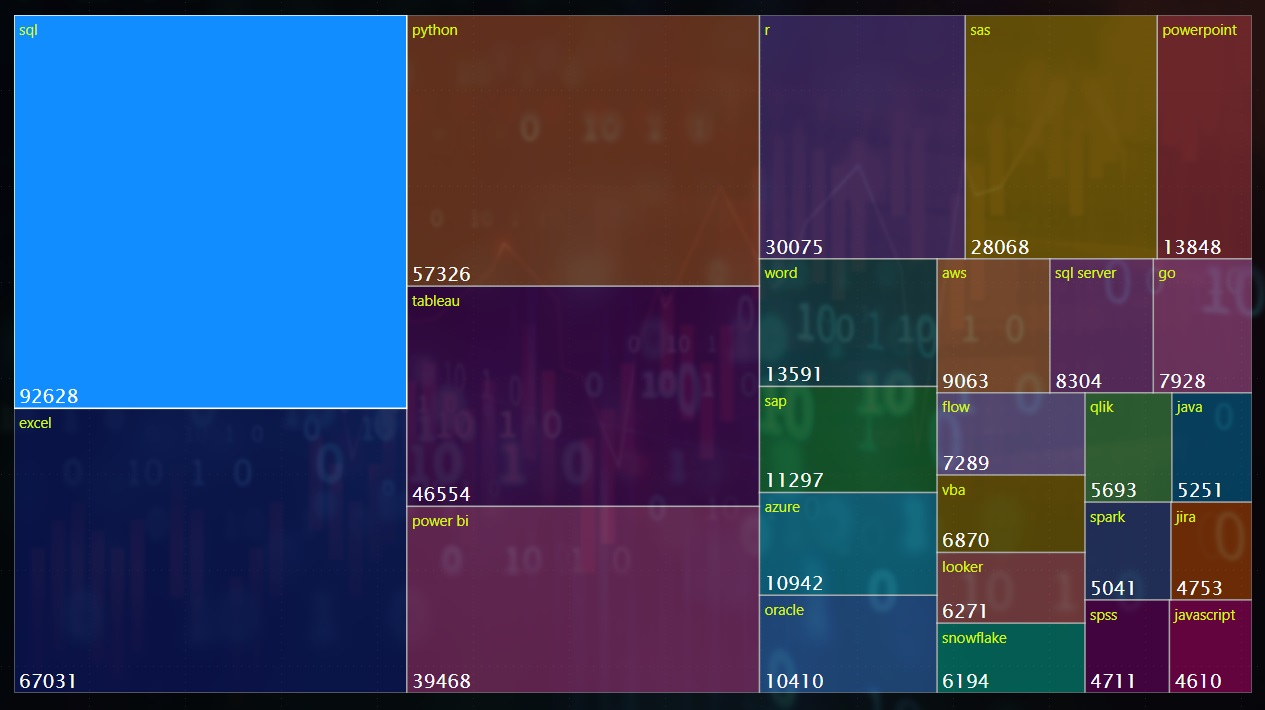

This screenshot's page, from the dashboard's own definition file:
{"tool":"powerbi","page":{"name":"Q3 - In-Demand Skills for Data Analytics","canvas":[1280,720],"ordinal":2},"visuals":[{"type":"treemap","fields":{"Group":["3_top_demanded_skills (2).skill_name"],"Values":["Sum(3_top_demanded_skills (2).demand_count)"]},"box":[192,112,1072,592],"z":0},{"type":"textbox","box":[168,16,1016,80],"z":1000},{"type":"actionButton","box":[0,120,168,40],"z":1001},{"type":"actionButton","box":[0,176,168,40],"z":1002},{"type":"actionButton","box":[0,224,168,40],"z":1003},{"type":"actionButton","box":[0,280,168,40],"z":1004},{"type":"actionButton","box":[0,336,168,40],"z":1005},{"type":"actionButton","box":[16,16,48,40],"z":1006},{"type":"actionButton","box":[72,40,40,32],"z":1007}]}

Visuals, with their boxes in screenshot pixels (x1, y1, x2, y2), scaled from the page's 1280x720 canvas onto the 1265x710 screenshot:
treemap - 3_top_demanded_skills (2).skill_name x Sum(3_top_demanded_skills (2).demand_count): [x1=190, y1=110, x2=1249, y2=694]
textbox: [x1=166, y1=16, x2=1170, y2=95]
actionButton: [x1=0, y1=118, x2=166, y2=158]
actionButton: [x1=0, y1=174, x2=166, y2=213]
actionButton: [x1=0, y1=221, x2=166, y2=260]
actionButton: [x1=0, y1=276, x2=166, y2=316]
actionButton: [x1=0, y1=331, x2=166, y2=371]
actionButton: [x1=16, y1=16, x2=63, y2=55]
actionButton: [x1=71, y1=39, x2=111, y2=71]
